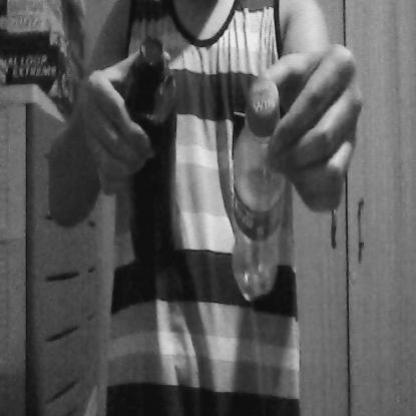Plastic Bottle: (226, 64, 288, 324)
